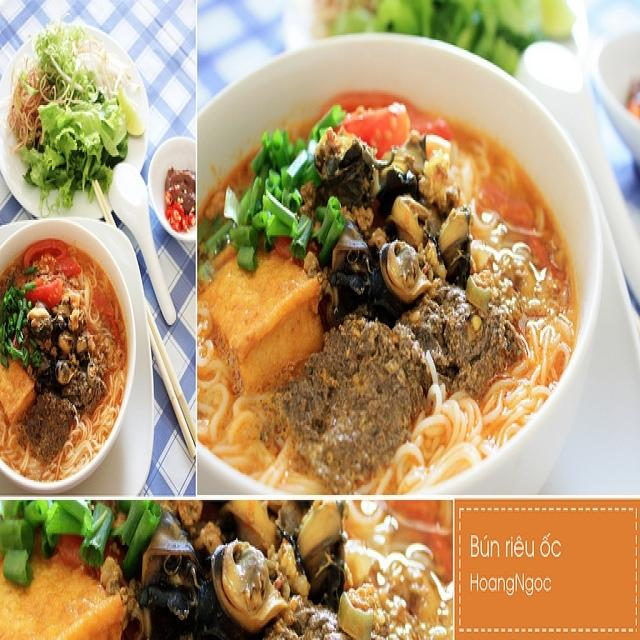面条主食: (14, 19, 618, 628)
